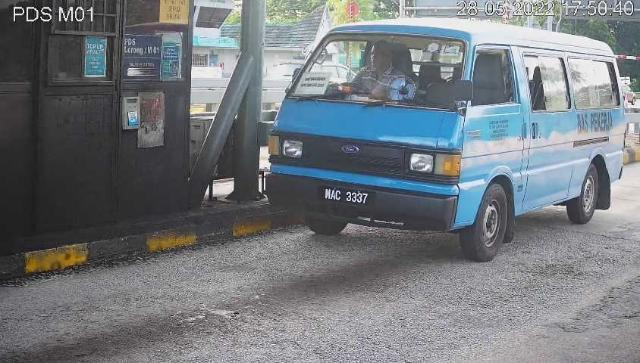License_Plate: (318, 185, 378, 211)
van: (267, 19, 628, 266)
